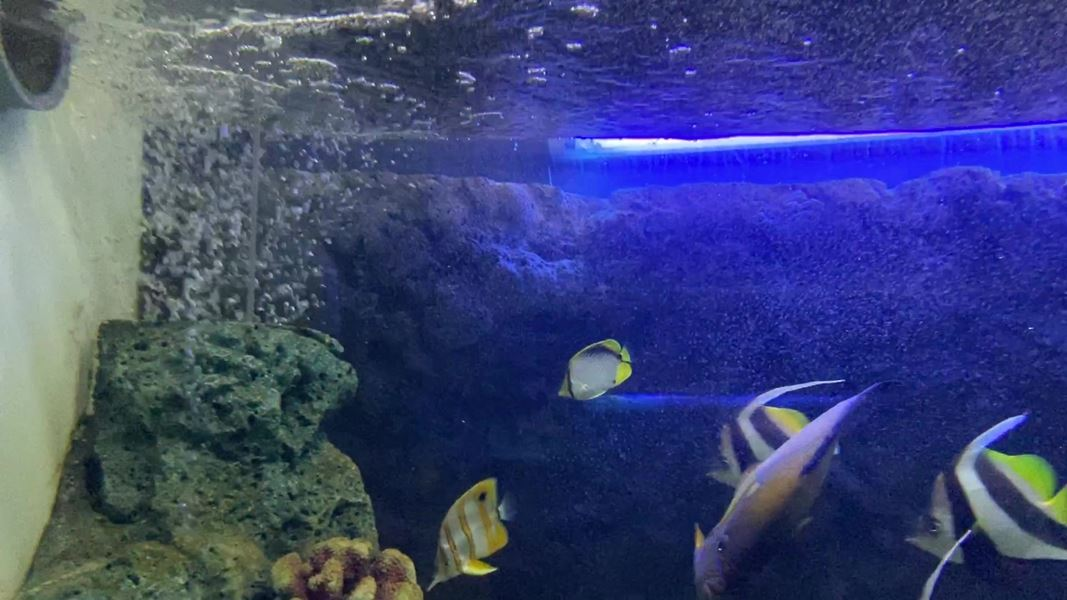Black-backed butterflyfish: (551, 330, 646, 409)
